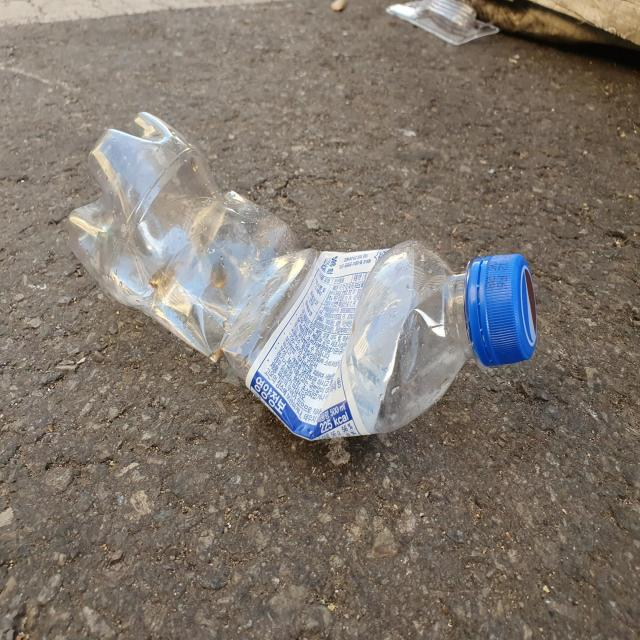plastic: (68, 112, 538, 440)
